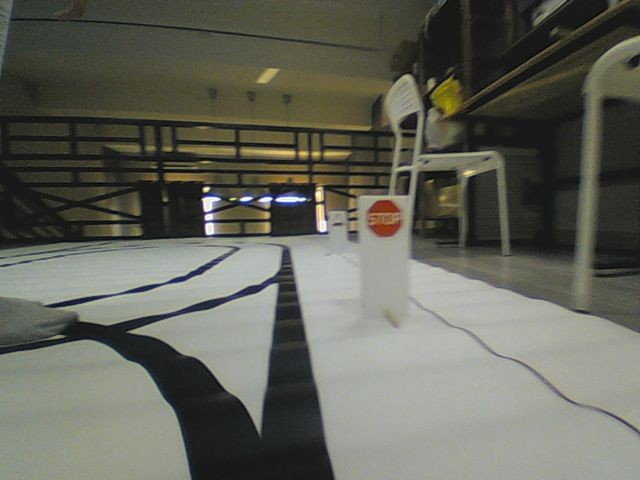Stop: (366, 198, 404, 238)
